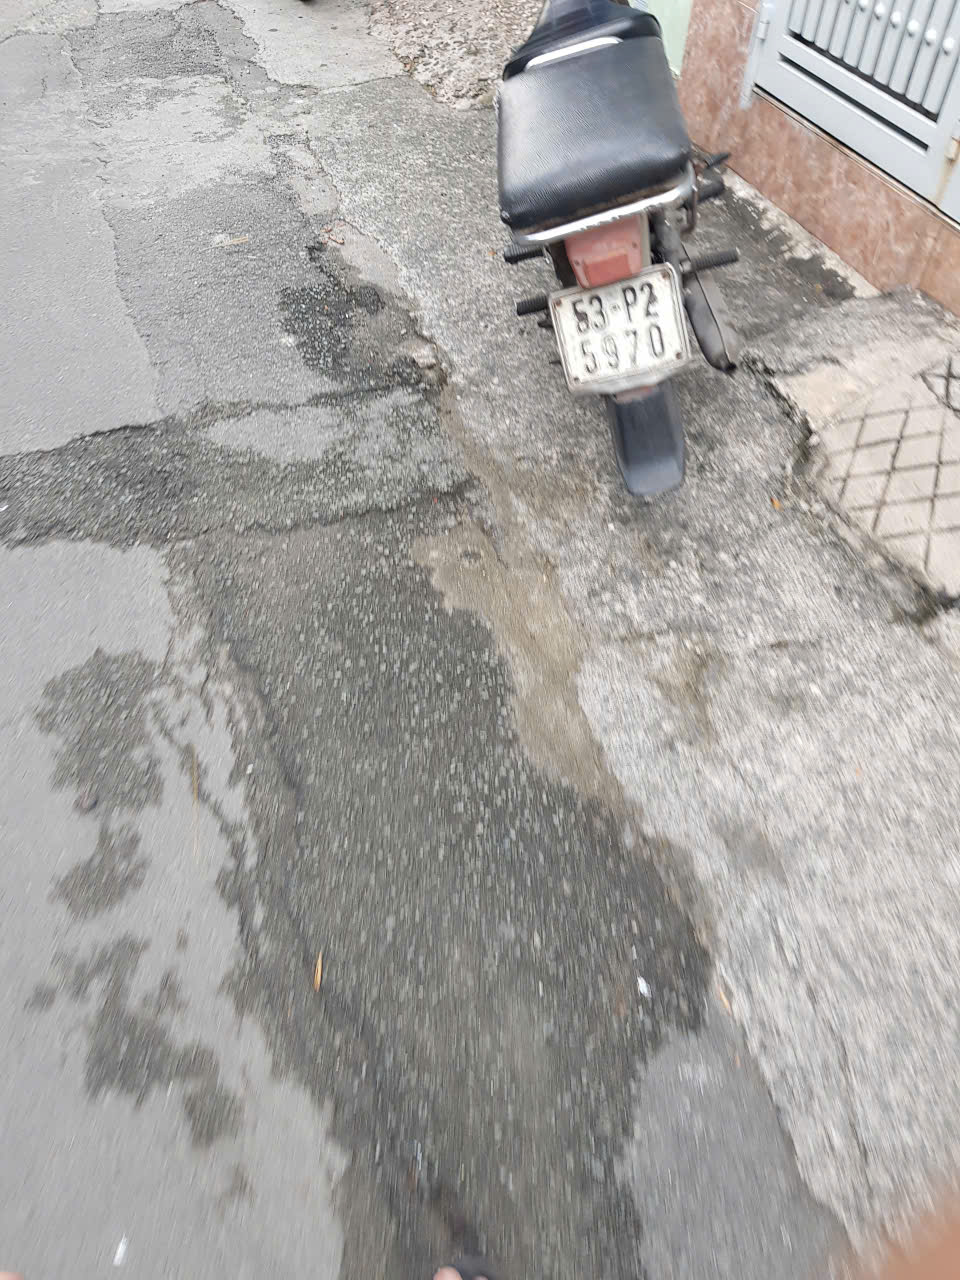bien_so: (552, 268, 688, 387)
